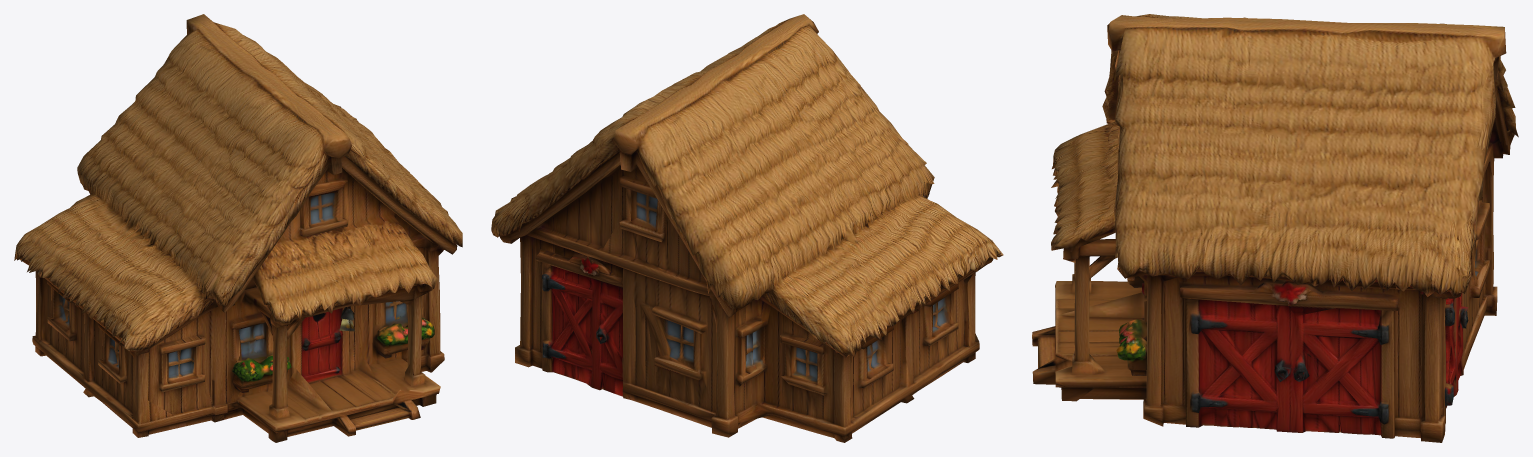
The model's file is wooden cottage 3d model.glb.
3 renders of one model, left to right at view 1: azimuth 30°, elevation 25°; view 2: azimuth 150°, elevation 25°; view 3: azimuth 270°, elevation 25°, orthographic. The views are drawn at different scales.
Parts seen in each view (by area): view 1: tripo_node_48cce1b5-fc8b-4285-8369-b1de25cebd1e; view 2: tripo_node_48cce1b5-fc8b-4285-8369-b1de25cebd1e; view 3: tripo_node_48cce1b5-fc8b-4285-8369-b1de25cebd1e.
Part boxes in pixels (x1=…): tripo_node_48cce1b5-fc8b-4285-8369-b1de25cebd1e: x1=14, y1=14, x2=462, y2=442; tripo_node_48cce1b5-fc8b-4285-8369-b1de25cebd1e: x1=491, y1=14, x2=1003, y2=442; tripo_node_48cce1b5-fc8b-4285-8369-b1de25cebd1e: x1=1032, y1=14, x2=1518, y2=442.
Size of the model in its own units: 0.981 by 0.6961 by 0.9139.
1 material, 1 textured.
